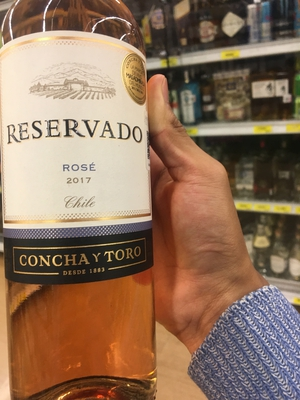reservado rose: (1, 14, 159, 400)
